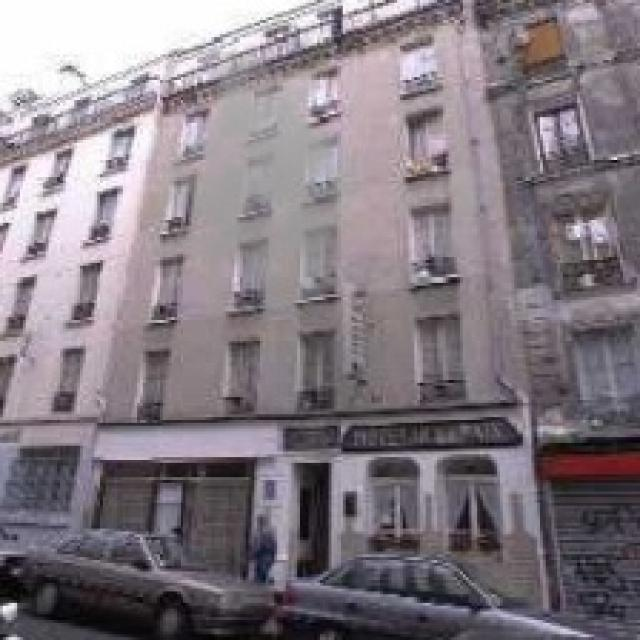smoke: (151, 49, 383, 314)
